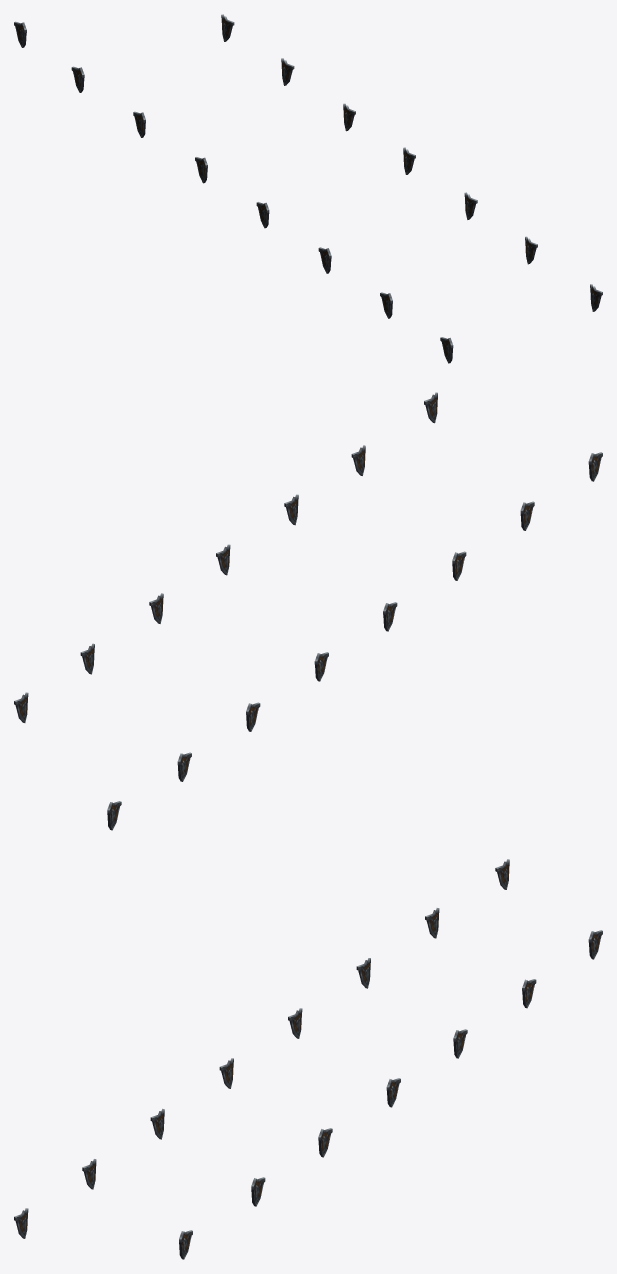
The model's file is wujian03.fbx.
3 views of the same model, one above another, from view 1: azimuth 30°, elevation 25°; view 2: azimuth 150°, elevation 25°; view 3: azimuth 330°, elevation 25° (orthographic). The views are drawn at different scales.
Visible parts, largest first — view 1: wujian03; view 2: wujian03; view 3: wujian03.
Boxes of the visible parts, x1,y1,x2,y2 form: wujian03: [14, 14, 602, 363]; wujian03: [14, 392, 602, 830]; wujian03: [14, 859, 602, 1259].
Size of the model in its own units: 1482 by 397 by 7497.
Materials: 1 (1 with a texture image).
